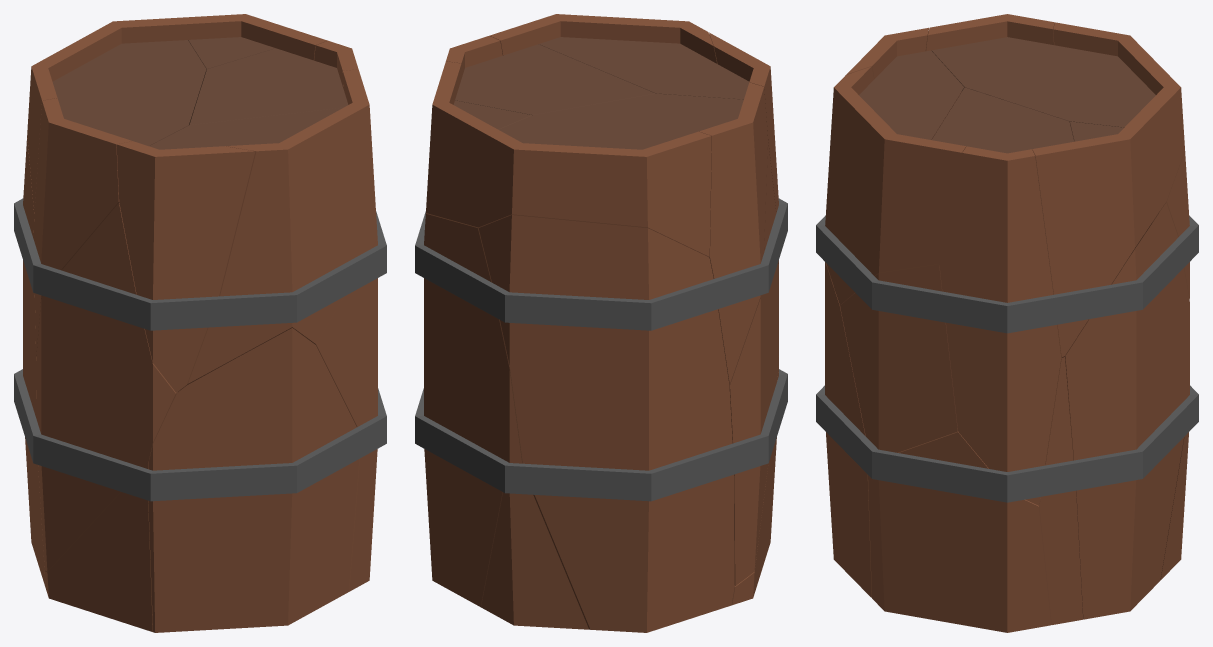
File: wooden_barrel_destructible.fbx
3 renders of one model, left to right at view 1: azimuth 30°, elevation 25°; view 2: azimuth 150°, elevation 25°; view 3: azimuth 270°, elevation 25°, orthographic.
Parts seen in each view (by area): view 1: Wood_Barrel_Destructible_Main.005, Wood_Barrel_Destructible_Main.002, Wood_Barrel_Destructible_Main.008, Wood_Barrel_Destructible_Main.007, Wood_Barrel_Destructible_TopRing, Wood_Barrel_Destructible_BottomRing, Wood_Barrel_Destructible_TopLid.001, Wood_Barrel_Destructible_Main, Wood_Barrel_Destructible_Main.012, Wood_Barrel_Destructible_Main.013, Wood_Barrel_Destructible_TopLid.002, Wood_Barrel_Destructible_Main.001 (+5 smaller); view 2: Wood_Barrel_Destructible_Main.006, Wood_Barrel_Destructible_Main.013, Wood_Barrel_Destructible_Main.003, Wood_Barrel_Destructible_TopRing, Wood_Barrel_Destructible_BottomRing, Wood_Barrel_Destructible_Main, Wood_Barrel_Destructible_Main.011, Wood_Barrel_Destructible_Main.008, Wood_Barrel_Destructible_TopLid.001, Wood_Barrel_Destructible_TopLid.002, Wood_Barrel_Destructible_TopLid.003, Wood_Barrel_Destructible_Main.002 (+4 smaller); view 3: Wood_Barrel_Destructible_Main.003, Wood_Barrel_Destructible_Main.004, Wood_Barrel_Destructible_Main.010, Wood_Barrel_Destructible_Main.013, Wood_Barrel_Destructible_Main.002, Wood_Barrel_Destructible_Main.001, Wood_Barrel_Destructible_TopRing, Wood_Barrel_Destructible_BottomRing, Wood_Barrel_Destructible_TopLid.001, Wood_Barrel_Destructible_Main.005, Wood_Barrel_Destructible_Main.009, Wood_Barrel_Destructible_TopLid.003 (+6 smaller).
Boxes of the visible parts, x1,y1,x2,y2 form: Wood_Barrel_Destructible_Main.005: (148,328,359,632); Wood_Barrel_Destructible_Main.002: (181,69,377,389); Wood_Barrel_Destructible_Main.008: (36,203,180,571); Wood_Barrel_Destructible_Main.007: (116,141,255,392); Wood_Barrel_Destructible_TopRing: (14,198,386,330); Wood_Barrel_Destructible_BottomRing: (14,369,386,501); Wood_Barrel_Destructible_TopLid.001: (52,40,206,145); Wood_Barrel_Destructible_Main: (33,98,132,356); Wood_Barrel_Destructible_Main.012: (44,461,152,631); Wood_Barrel_Destructible_Main.013: (27,14,327,212); Wood_Barrel_Destructible_TopLid.002: (189,48,348,125); Wood_Barrel_Destructible_Main.001: (315,238,377,426); Wood_Barrel_Destructible_Main.006: (478,215,734,632); Wood_Barrel_Destructible_Main.013: (426,61,711,256); Wood_Barrel_Destructible_Main.003: (424,214,522,607); Wood_Barrel_Destructible_TopRing: (415,198,787,330); Wood_Barrel_Destructible_BottomRing: (415,369,787,501); Wood_Barrel_Destructible_Main: (699,82,767,384); Wood_Barrel_Destructible_Main.011: (481,492,588,629); Wood_Barrel_Destructible_Main.008: (729,140,778,586); Wood_Barrel_Destructible_TopLid.001: (499,93,743,149); Wood_Barrel_Destructible_TopLid.002: (455,44,655,115); Wood_Barrel_Destructible_TopLid.003: (539,37,749,99); Wood_Barrel_Destructible_Main.002: (489,14,716,63); Wood_Barrel_Destructible_Main.003: (1065,202,1189,619); Wood_Barrel_Destructible_Main.004: (939,146,1061,505); Wood_Barrel_Destructible_Main.010: (868,428,1051,632); Wood_Barrel_Destructible_Main.013: (1032,22,1184,361); Wood_Barrel_Destructible_Main.002: (825,66,965,305); Wood_Barrel_Destructible_Main.001: (840,264,957,452); Wood_Barrel_Destructible_TopRing: (816,216,1198,333); Wood_Barrel_Destructible_BottomRing: (816,385,1198,502); Wood_Barrel_Destructible_TopLid.001: (931,37,1155,127); Wood_Barrel_Destructible_Main.005: (825,262,871,597); Wood_Barrel_Destructible_Main.009: (1039,357,1082,624); Wood_Barrel_Destructible_TopLid.003: (859,50,963,139).
Size of the model in its own units: 165 by 225 by 165.
